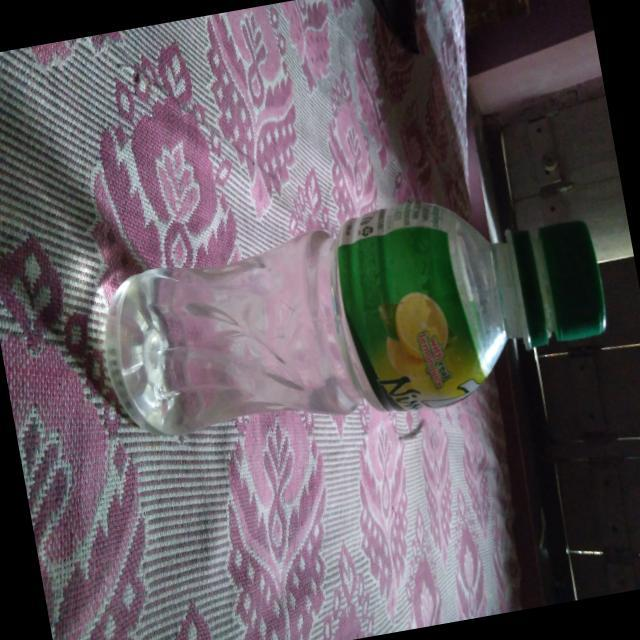good: (72, 173, 624, 473)
